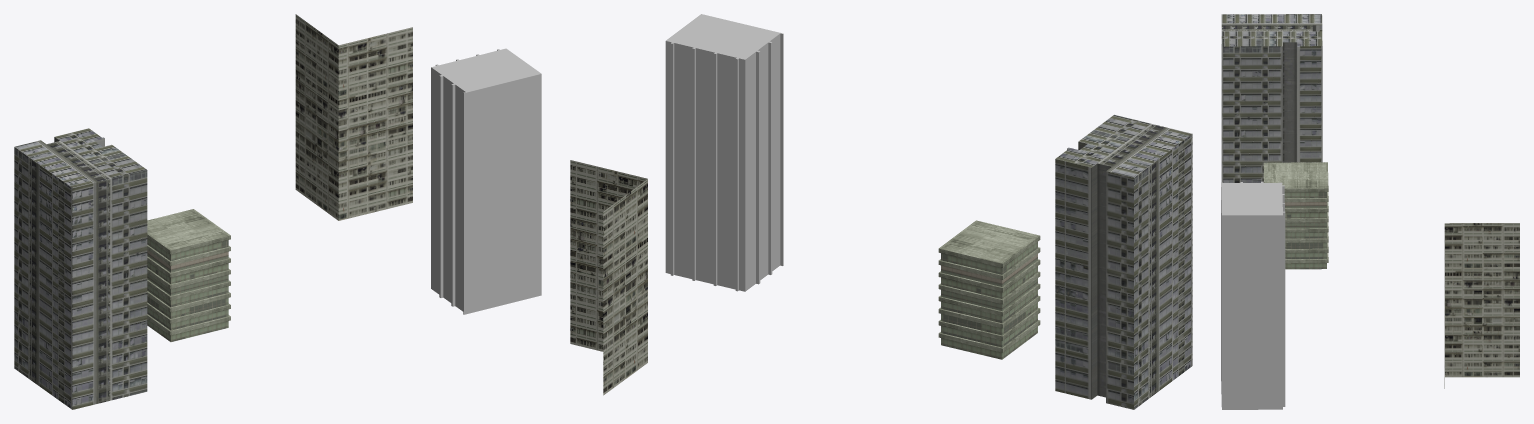
3 renders of one model, left to right at view 1: azimuth 30°, elevation 25°; view 2: azimuth 150°, elevation 25°; view 3: azimuth 270°, elevation 25°, orthographic. The views are drawn at different scales.
Visible parts, largest first — view 1: SM_HK_02_05; view 2: SM_HK_02_05; view 3: SM_HK_02_05.
Boxes of the visible parts, bbox=[...] form: SM_HK_02_05: bbox=[14, 14, 541, 409]; SM_HK_02_05: bbox=[570, 14, 1192, 409]; SM_HK_02_05: bbox=[1221, 14, 1519, 409].
Bounding box in the file's own units: 19517 × 8787 × 12239.
